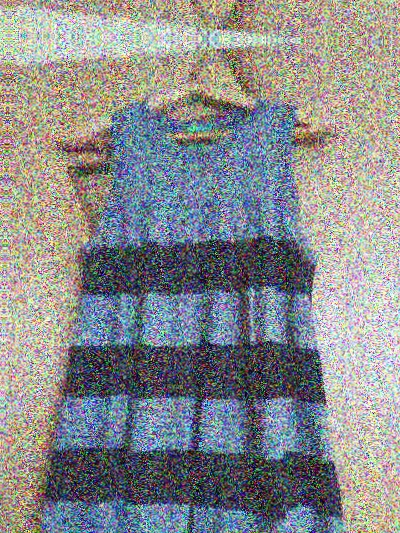Dress: (29, 86, 372, 533)
